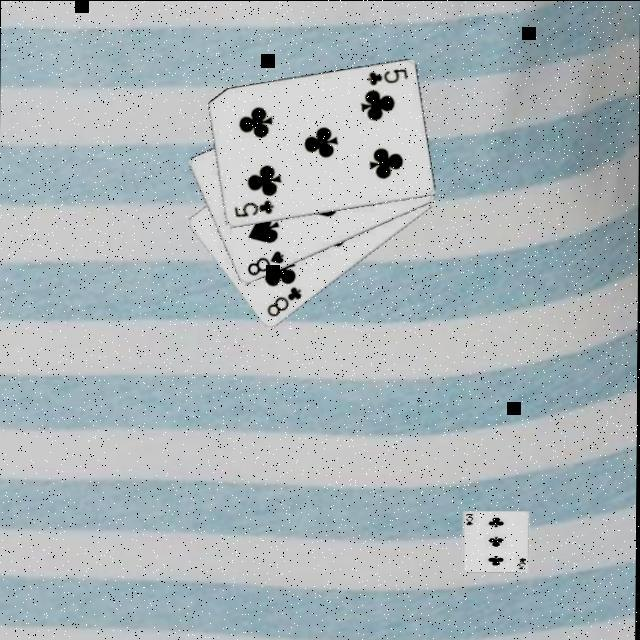5C: (232, 198, 278, 222), (364, 68, 411, 90)
8C: (265, 284, 306, 320)
8S: (245, 249, 288, 280)
